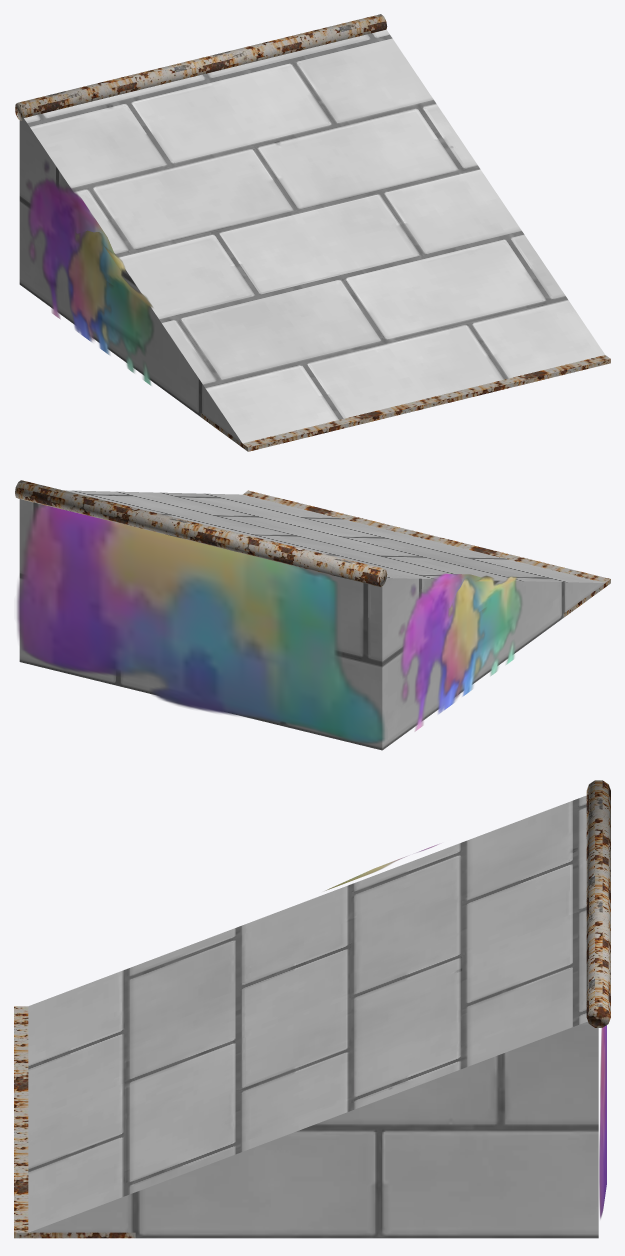
The model's file is BigWedge.glb.
3 renders of one model, top to bottom at view 1: azimuth 30°, elevation 25°; view 2: azimuth 150°, elevation 25°; view 3: azimuth 270°, elevation 25°, orthographic. The views are drawn at different scales.
Parts seen in each view (by area): view 1: BigWedge_Body, BigWedge_Paint, BigWedge_Edge; view 2: BigWedge_Paint, BigWedge_Body, BigWedge_Edge; view 3: BigWedge_Body, BigWedge_Edge, BigWedge_Paint.
Boxes of the visible parts, x1=… form: BigWedge_Body: x1=19, y1=29, x2=604, y2=443; BigWedge_Paint: x1=26, y1=160, x2=154, y2=385; BigWedge_Edge: x1=15, y1=14, x2=610, y2=451; BigWedge_Paint: x1=17, y1=504, x2=522, y2=743; BigWedge_Body: x1=19, y1=490, x2=604, y2=750; BigWedge_Edge: x1=15, y1=480, x2=610, y2=617; BigWedge_Body: x1=28, y1=795, x2=598, y2=1238; BigWedge_Edge: x1=14, y1=780, x2=610, y2=1238; BigWedge_Paint: x1=325, y1=844, x2=606, y2=1218.
Bounding box in the file's own units: 2.27 × 1.08 × 2.45.
Materials: 3 (3 with a texture image).
